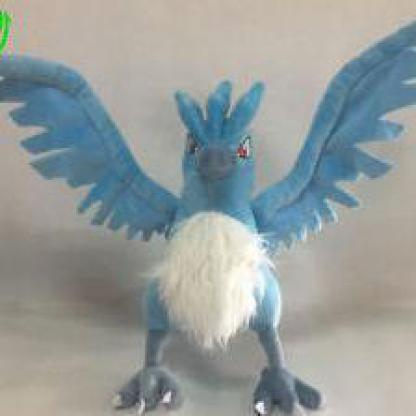Articuno: (1, 1, 415, 415)
